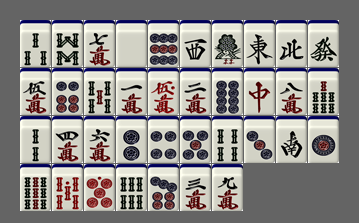0m: (148, 68, 179, 115)
0p: (84, 164, 115, 211)
0s: (52, 164, 83, 211)
1m: (116, 68, 147, 115)
1p: (308, 116, 339, 163)
1s: (212, 20, 243, 67)
1z: (244, 20, 275, 67)
2m: (180, 68, 211, 115)
2p: (116, 116, 147, 163)
2s: (20, 116, 51, 163)
2z: (276, 116, 307, 163)
3m: (180, 164, 211, 211)
3p: (244, 116, 275, 163)
3s: (20, 20, 51, 67)
3z: (180, 20, 211, 67)
4m: (52, 116, 83, 163)
4p: (148, 116, 179, 163)
4s: (212, 116, 243, 163)
4z: (276, 20, 307, 67)
5m: (20, 68, 51, 115)
5p: (180, 116, 211, 163)
5s: (84, 68, 115, 115)
5z: (116, 20, 147, 67)
6m: (84, 116, 115, 163)
6p: (52, 68, 83, 115)
6s: (116, 164, 147, 211)
6z: (308, 20, 339, 67)
7m: (84, 20, 115, 67)
7p: (148, 164, 179, 211)
7s: (308, 68, 339, 115)
7z: (244, 68, 275, 115)
8m: (276, 68, 307, 115)
8p: (212, 68, 243, 115)
8s: (52, 20, 83, 67)
9m: (212, 164, 243, 211)
9p: (148, 20, 179, 67)
9s: (20, 164, 51, 211)
